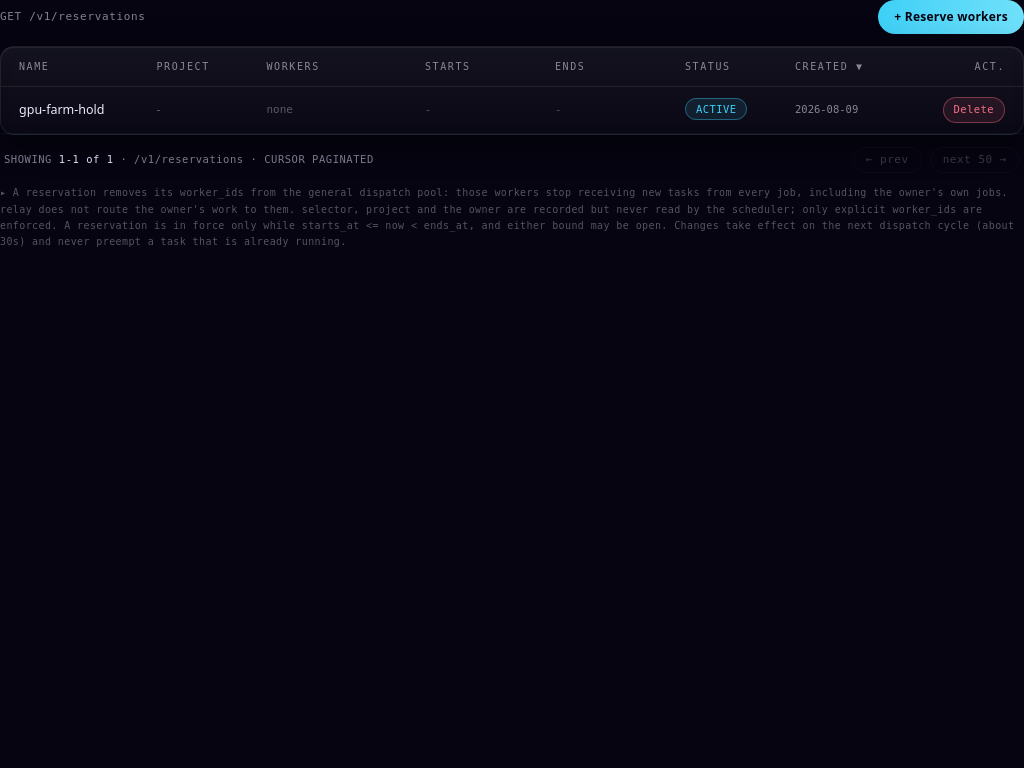
Test: the delete dialog for a reservation holding zero workers says so, not "returns its 0 worker(s)"
expect the text "gpu-farm-hold" is shown: met, box [19,100,104,119]
Click the button with aria-label "Delete reservation gpu-farm-hold": (974, 110) [942,97,1005,123]
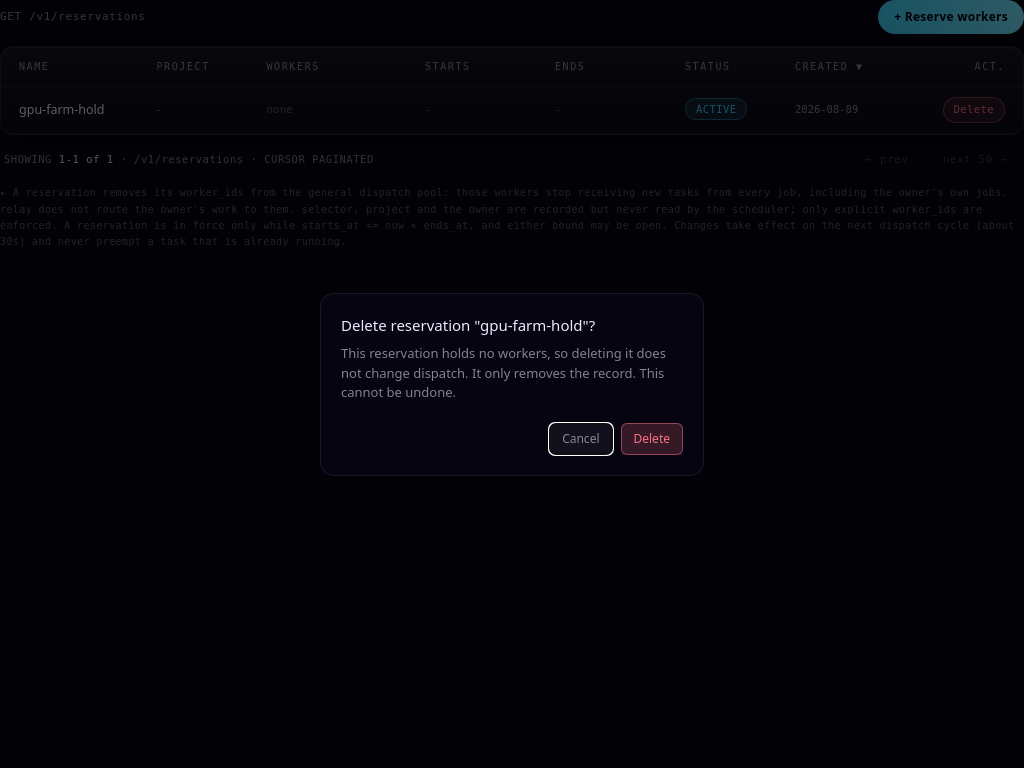
expect the dialog shows "holds no workers": met, box [341,344,666,401]
expect the dialog shows "does not change dispatch": met, box [341,344,666,401]
